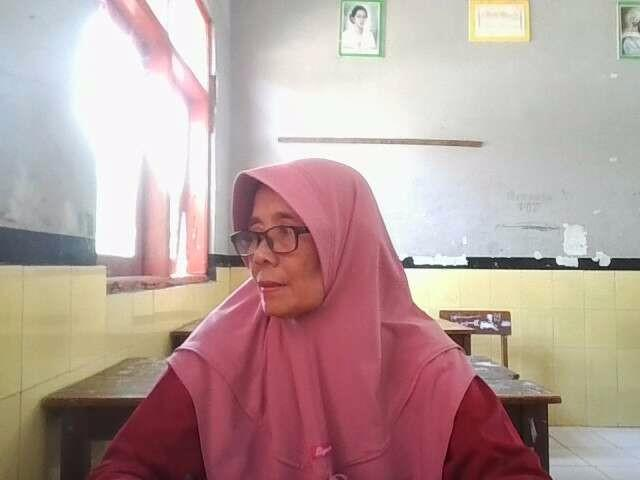cheating: (66, 140, 561, 480)
